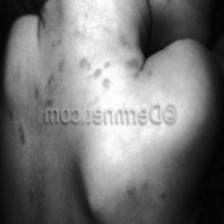Toxin: (32, 58, 68, 106), (78, 56, 92, 72), (124, 58, 138, 70)
